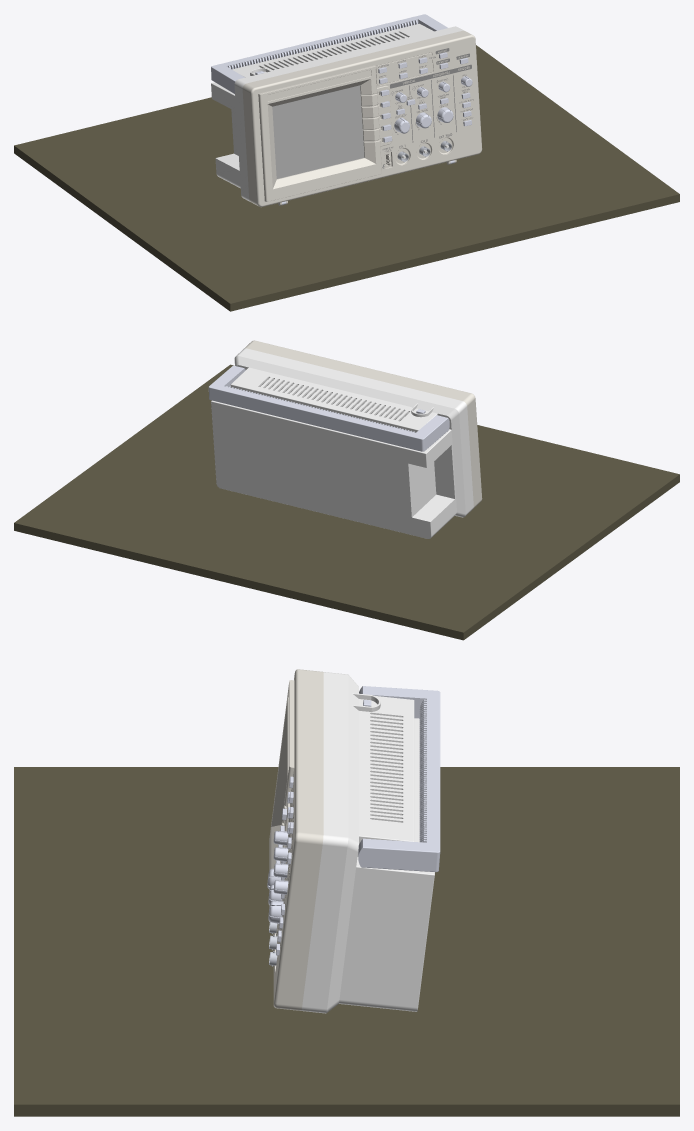
File: osciloscopio.glb
The picture shows the model from 3 angles, top to bottom: view 1: azimuth 30°, elevation 25°; view 2: azimuth 150°, elevation 25°; view 3: azimuth 270°, elevation 25°; orthographic projection. The views are drawn at different scales.
Visible parts, largest first — view 1: table, frontPanel, screen, backPane, handle; view 2: table, backPane, handle, frontPanel; view 3: table, backPane, frontPanel, handle.
Boxes of the visible parts, x1=… form: table: x1=14, y1=45, x2=679, y2=311; frontPanel: x1=242, y1=30, x2=482, y2=207; screen: x1=272, y1=85, x2=364, y2=178; backPane: x1=211, y1=23, x2=463, y2=201; handle: x1=211, y1=14, x2=447, y2=93; table: x1=14, y1=364, x2=679, y2=640; backPane: x1=211, y1=348, x2=473, y2=538; handle: x1=208, y1=365, x2=449, y2=451; frontPanel: x1=244, y1=340, x2=482, y2=508; table: x1=14, y1=767, x2=679, y2=1116; backPane: x1=301, y1=672, x2=434, y2=1013; frontPanel: x1=269, y1=669, x2=323, y2=1010; handle: x1=358, y1=686, x2=440, y2=872.
Size of the model in its own units: 0.6 by 0.163 by 0.5.
